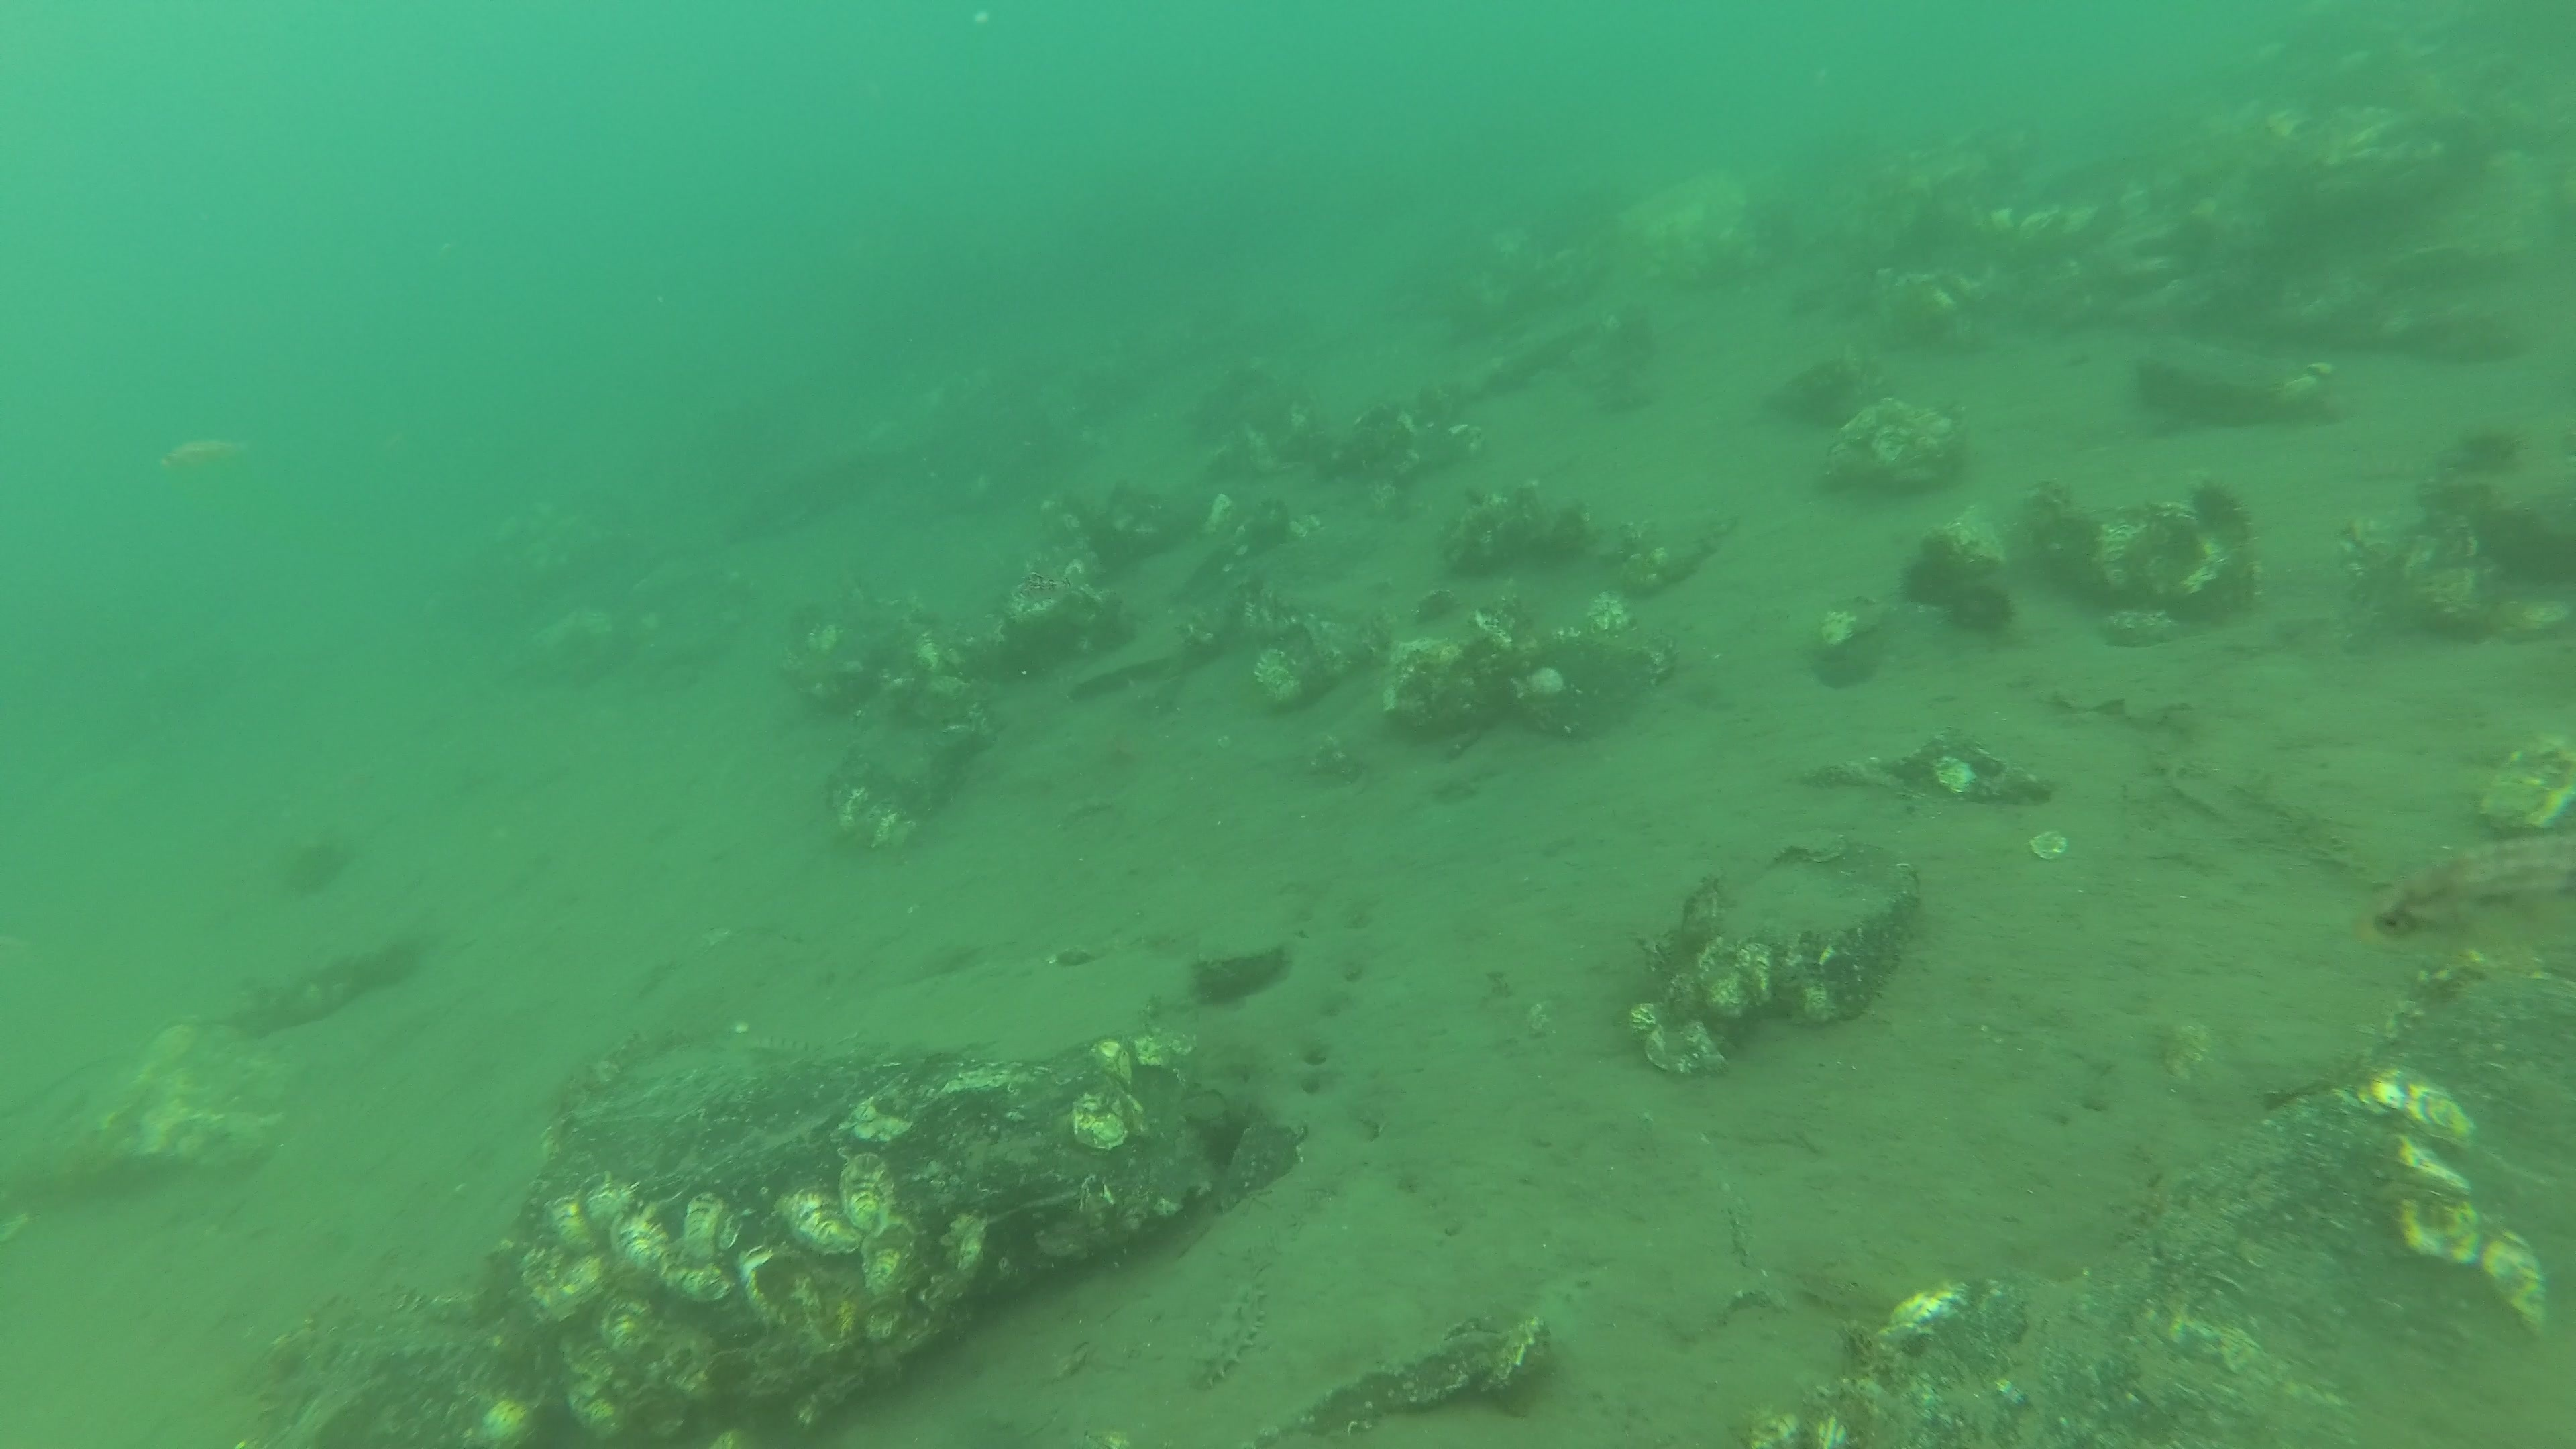echinus: (1950, 577, 2013, 640), (287, 846, 341, 899), (2192, 476, 2242, 529), (1897, 554, 1946, 607)
